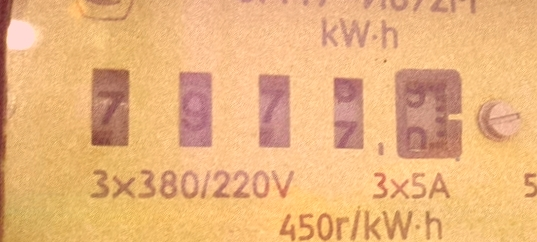0: (405, 121, 429, 150)
7: (94, 84, 129, 130), (332, 110, 363, 152), (259, 83, 289, 125)
9: (180, 86, 212, 134), (403, 77, 433, 110)
screen: (77, 44, 481, 182)
